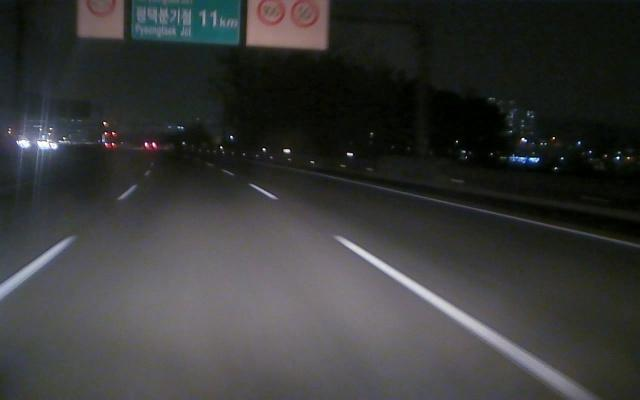lane: (254, 184, 598, 396), (374, 183, 640, 251), (1, 185, 136, 300)
